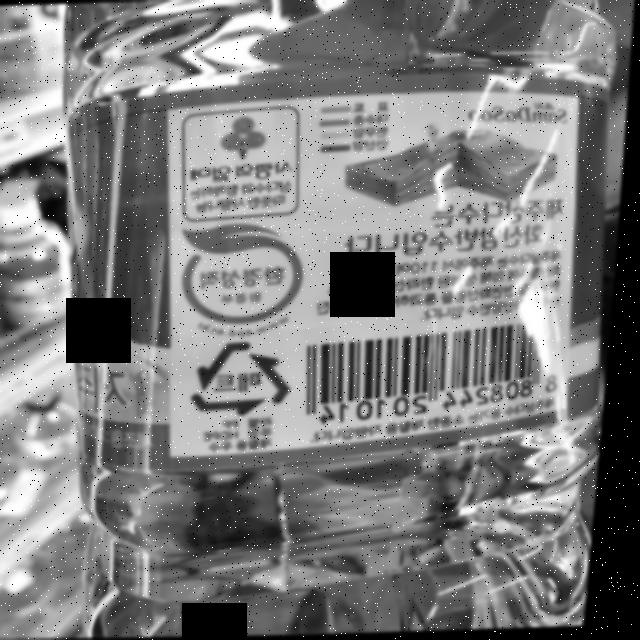PET: (192, 337, 306, 418)
